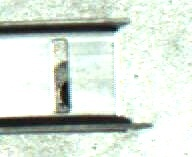40ngpress: (20, 19, 133, 129)
